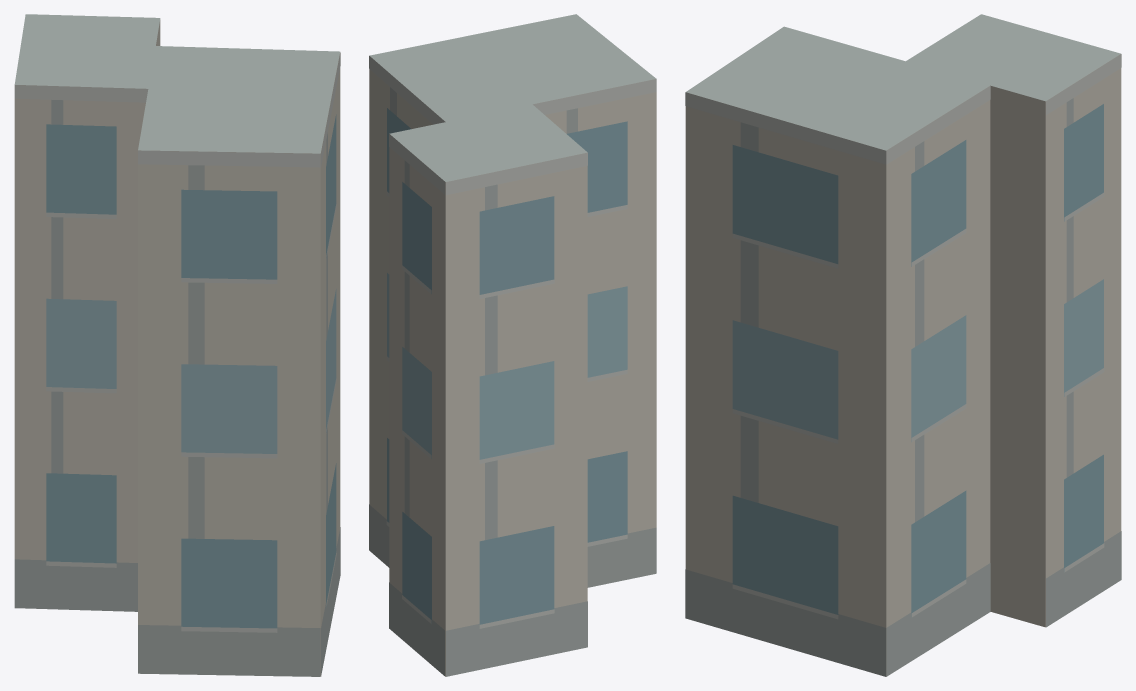
Rendered from survey-upis-32820837.glb.
3 renders of one model, left to right at view 1: azimuth 30°, elevation 25°; view 2: azimuth 150°, elevation 25°; view 3: azimuth 270°, elevation 25°, orthographic. The views are drawn at different scales.
Visible parts, largest first — view 1: survey-upis-32820837.tmp; view 2: survey-upis-32820837.tmp; view 3: survey-upis-32820837.tmp.
Part boxes in pixels (x1,y1,x2,y2): survey-upis-32820837.tmp: (14, 14, 340, 676); survey-upis-32820837.tmp: (369, 14, 656, 676); survey-upis-32820837.tmp: (685, 14, 1121, 676).
Size of the model in its own units: 5.1 by 9.15 by 6.88.
